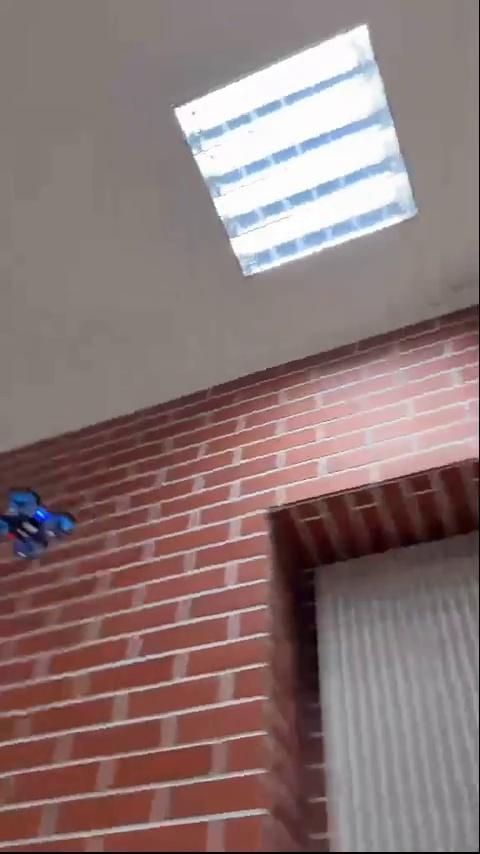drone: (0, 476, 74, 566)
